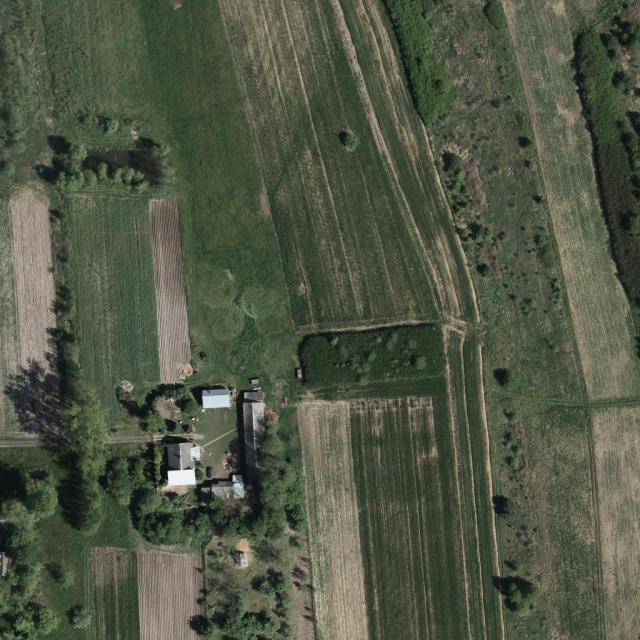building: (134, 380, 269, 507)
greenland: (294, 315, 450, 403)
